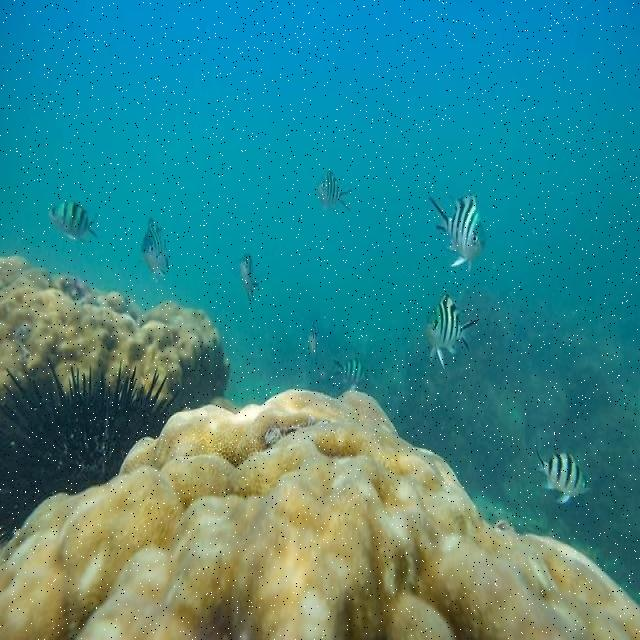fish: (431, 193, 488, 273), (426, 290, 478, 368), (534, 451, 590, 503), (48, 201, 97, 242), (314, 169, 353, 215), (143, 221, 168, 279), (332, 360, 368, 391), (241, 254, 258, 302), (309, 323, 319, 352)
reefs: (0, 391, 639, 639), (0, 252, 233, 409), (0, 355, 181, 545)
